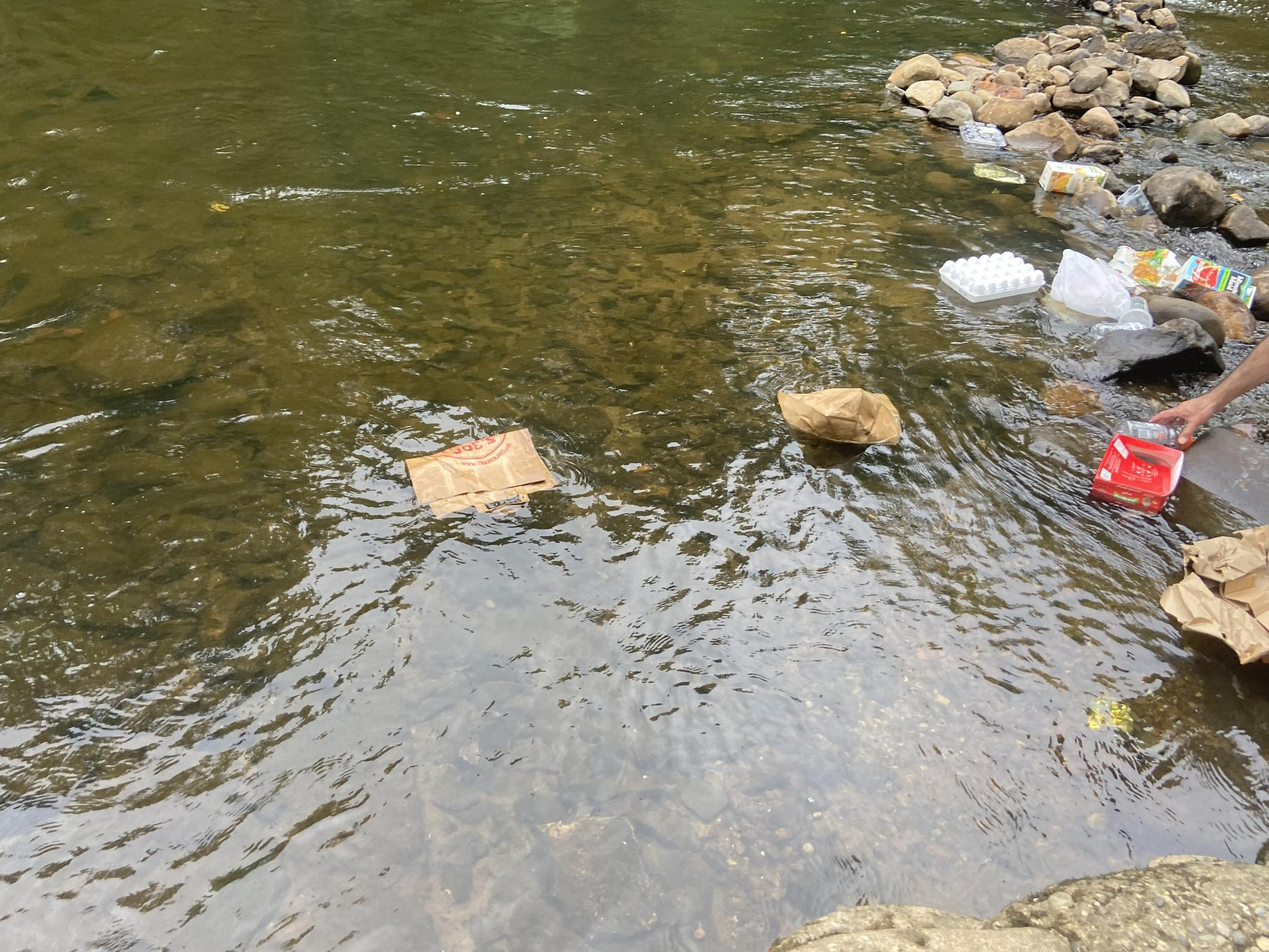cardboard: (1090, 430, 1189, 522), (1164, 254, 1260, 316), (1108, 241, 1197, 304), (1035, 156, 1113, 199)
metal: (970, 160, 1033, 191)
paper: (395, 417, 564, 535), (1157, 521, 1269, 681), (766, 377, 910, 457)
plastic: (938, 243, 1056, 312), (1042, 246, 1134, 323), (1108, 416, 1203, 452), (955, 116, 1014, 151), (1112, 291, 1152, 332), (1091, 319, 1142, 340)
